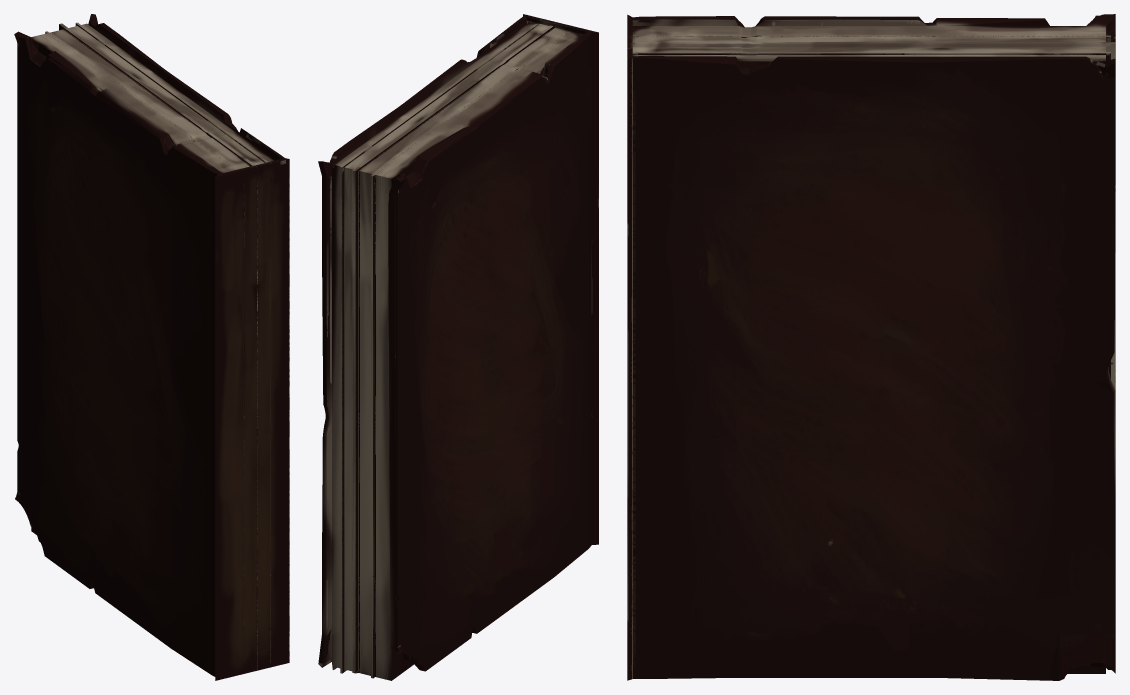
File: BurnedBook.dae
3 views of the same model, side by side, from view 1: azimuth 30°, elevation 25°; view 2: azimuth 150°, elevation 25°; view 3: azimuth 270°, elevation 25° (orthographic). The views are drawn at different scales.
Parts seen in each view (by area): view 1: Book; view 2: Book; view 3: Book.
Part boxes in pixels (box(x1,y1,x2,y2)): Book: box(14, 14, 289, 680); Book: box(318, 14, 598, 680); Book: box(627, 14, 1115, 680).
Size of the model in its own units: 70.01 by 415 by 295.
1 material, 1 textured.
